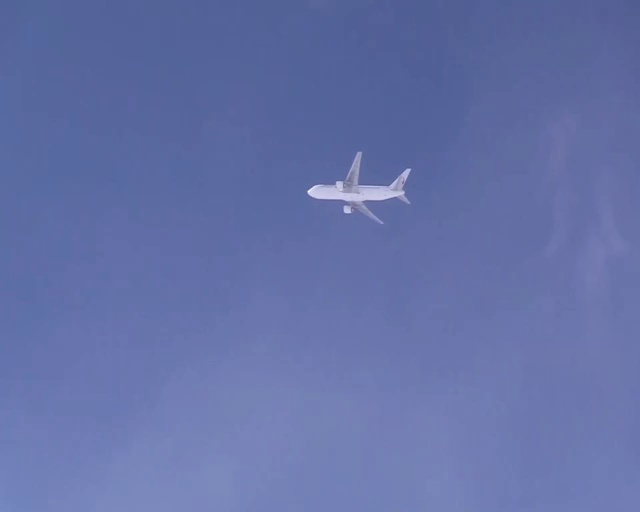AIRPLANE: (307, 150, 412, 224)
